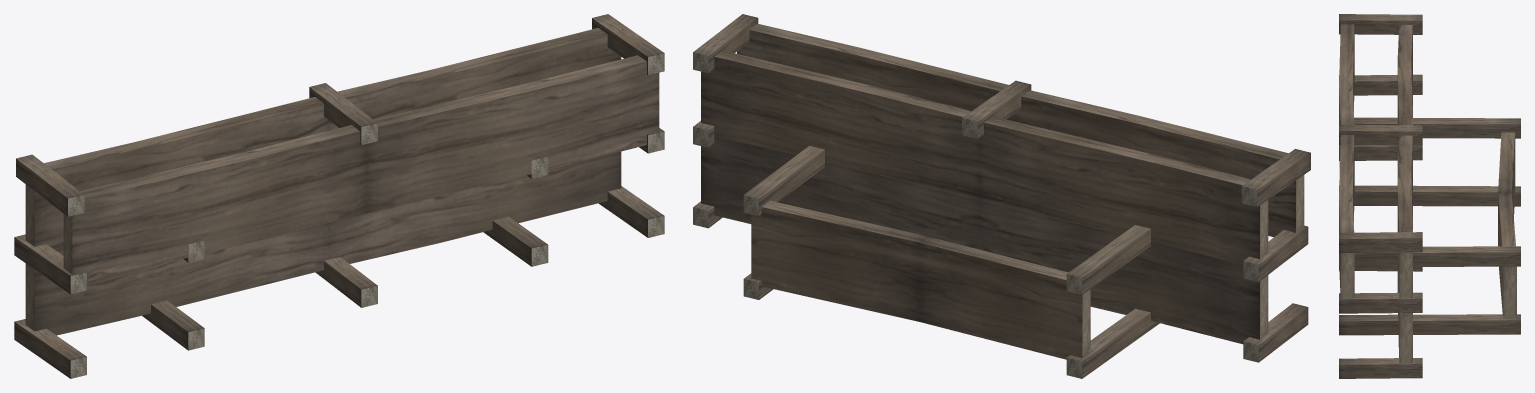
File: Counter_Type_02_E.fbx
3 renders of one model, left to right at view 1: azimuth 30°, elevation 25°; view 2: azimuth 150°, elevation 25°; view 3: azimuth 270°, elevation 25°, orthographic. The views are drawn at different scales.
Parts seen in each view (by area): view 1: Counter_Type_02_E; view 2: Counter_Type_02_E; view 3: Counter_Type_02_E.
Part boxes in pixels (<box>): Counter_Type_02_E: <box>14,14,664,378</box>; Counter_Type_02_E: <box>693,14,1310,378</box>; Counter_Type_02_E: <box>1339,14,1520,378</box>.
Size of the model in its own units: 6.64 by 1.93 by 2.27.
